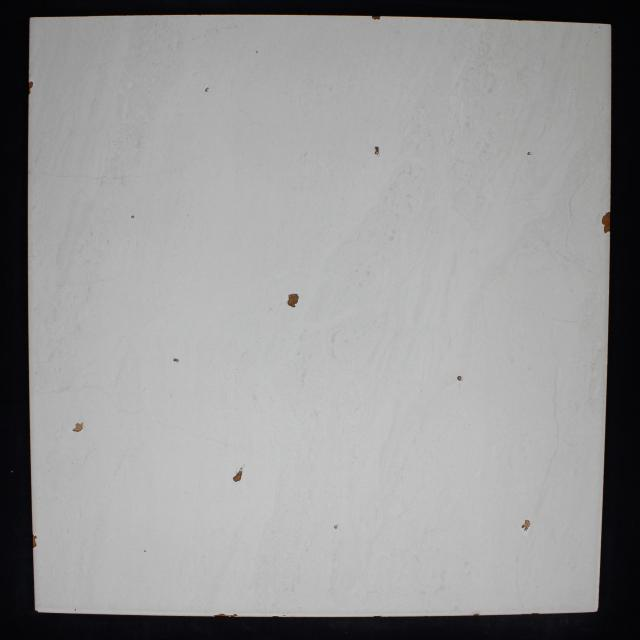edge-chipping: (601, 211, 611, 234), (28, 81, 33, 96), (214, 613, 226, 617), (227, 614, 239, 617), (372, 16, 381, 20), (33, 540, 37, 548), (532, 612, 540, 615), (33, 534, 37, 540), (473, 613, 480, 616), (373, 616, 382, 618), (34, 610, 38, 612)
hole: (287, 293, 299, 308), (232, 470, 243, 483), (521, 519, 531, 532), (72, 422, 84, 432), (374, 146, 379, 155), (333, 524, 338, 530), (457, 376, 462, 381), (173, 358, 179, 362), (527, 152, 532, 156), (205, 87, 209, 92), (131, 215, 134, 218), (256, 50, 258, 54)
